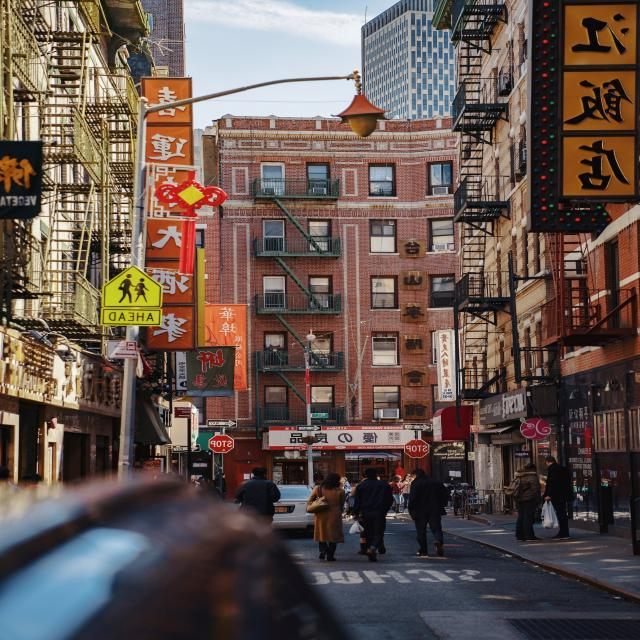adult: (350, 468, 396, 562), (406, 468, 452, 559), (308, 474, 348, 562), (540, 455, 574, 542), (506, 461, 540, 544), (235, 463, 282, 520), (390, 475, 407, 512), (401, 473, 413, 512)
